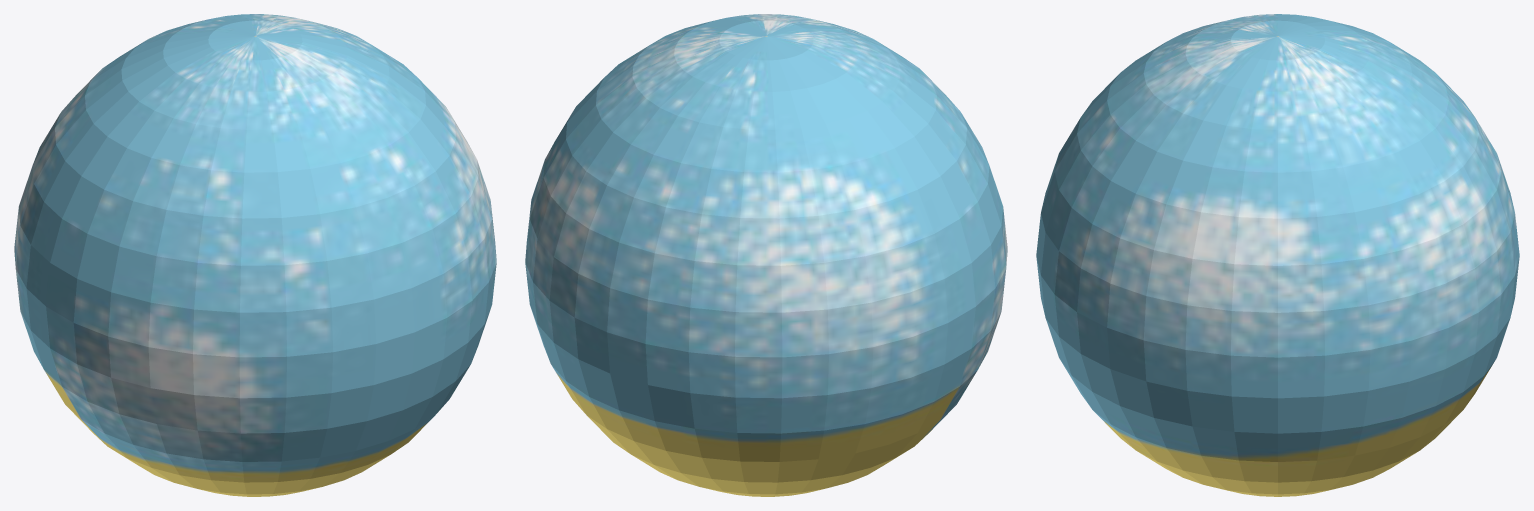
The model's file is Map.obj.
3 views of the same model, side by side, from view 1: azimuth 30°, elevation 25°; view 2: azimuth 150°, elevation 25°; view 3: azimuth 270°, elevation 25° (orthographic).
Parts seen in each view (by area): view 1: Sphere; view 2: Sphere; view 3: Sphere.
Part boxes in pixels (x1,y1,x2,y2): Sphere: [14, 14, 496, 496]; Sphere: [525, 14, 1007, 496]; Sphere: [1036, 14, 1519, 496].
Bounding box in the file's own units: 416 × 416 × 416.
